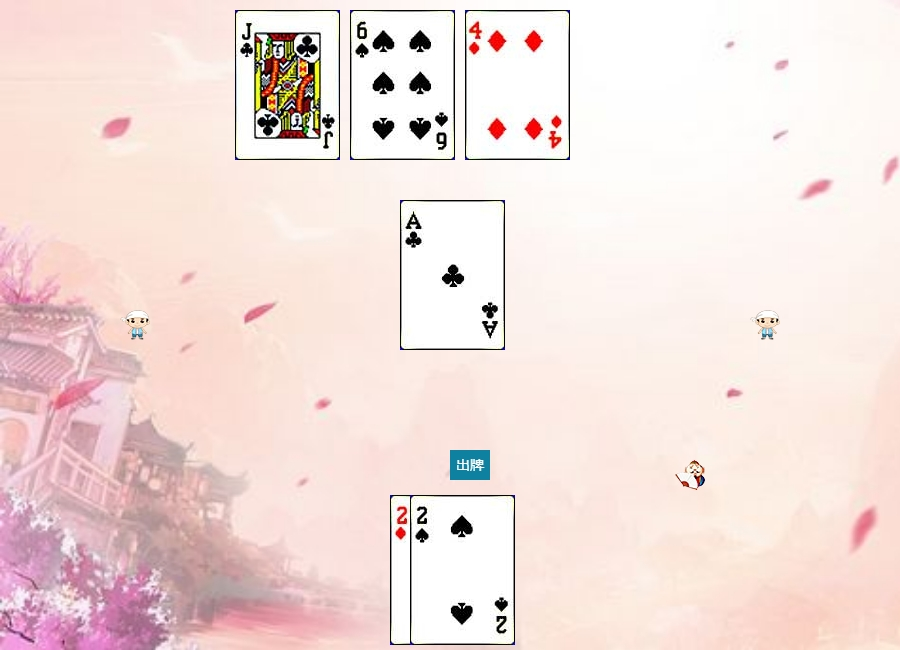11~2: (235, 10, 340, 160)
14~2: (400, 200, 505, 350)
15~1: (390, 495, 495, 645)
15~4: (410, 495, 515, 645)
4~1: (465, 10, 570, 160)
6~4: (350, 10, 455, 160)
